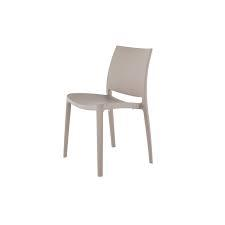chair: (43, 24, 166, 181)
